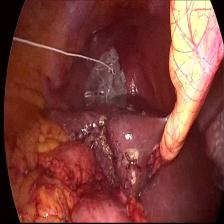Specimen Bag: (83, 42, 130, 106)
